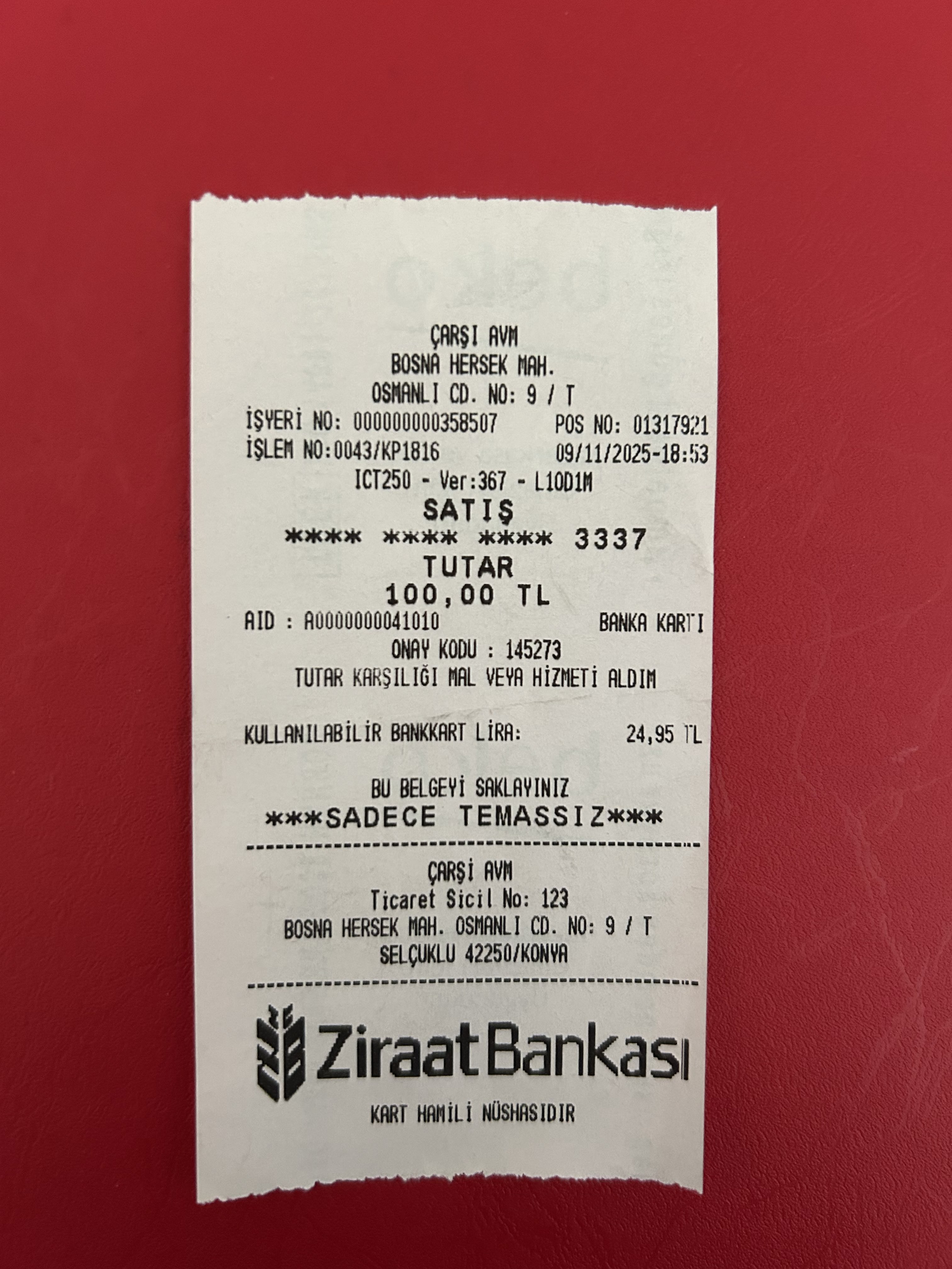date: (547, 436, 653, 469)
price: (363, 577, 567, 609)
workplace: (357, 312, 591, 412)
